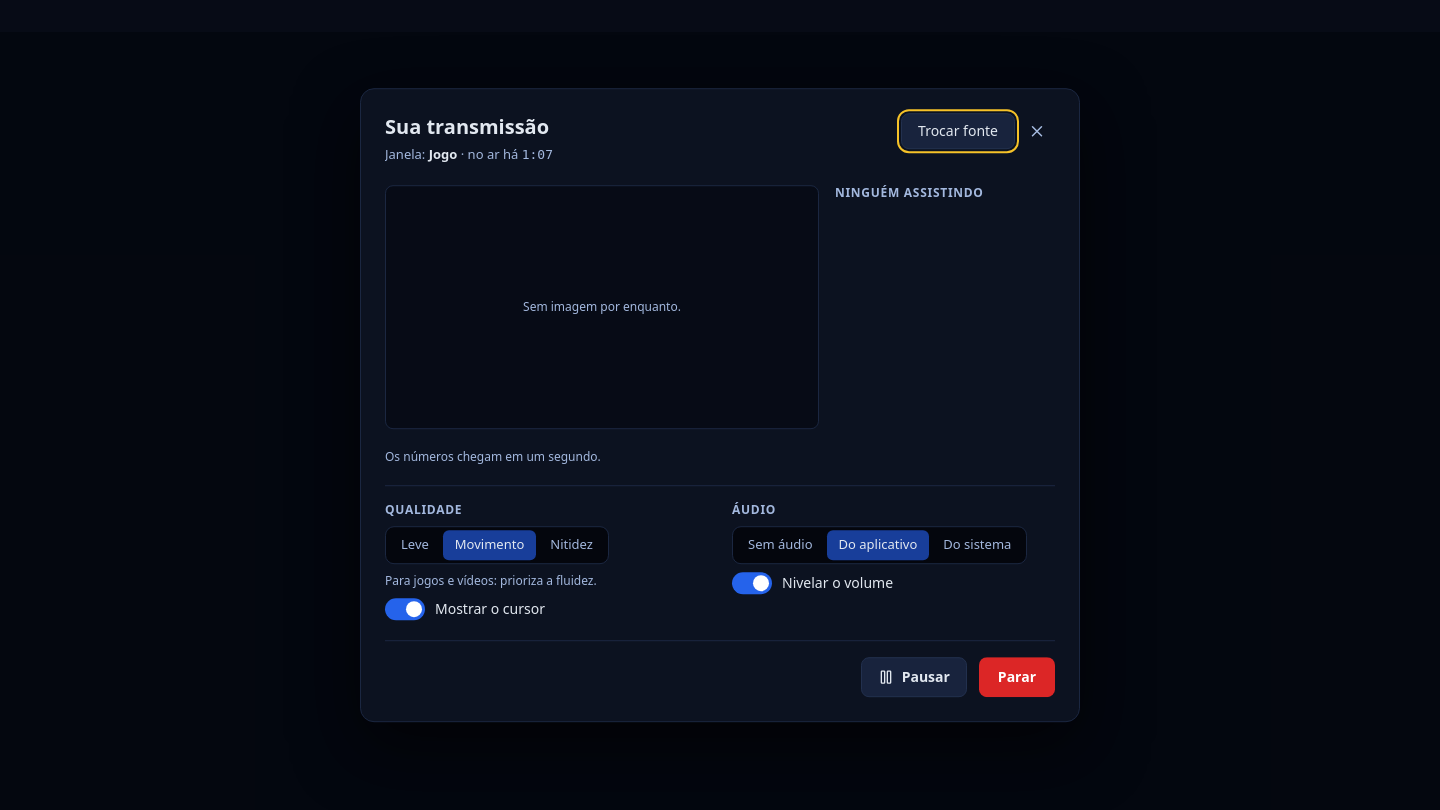
Test: SharePanel › um ajuste que falha avisa, e a transmissão segue
The image size is (1440, 810).
Click the radio button labelled "Do sistema". click: click(977, 544)
box: [943, 536, 1011, 554]
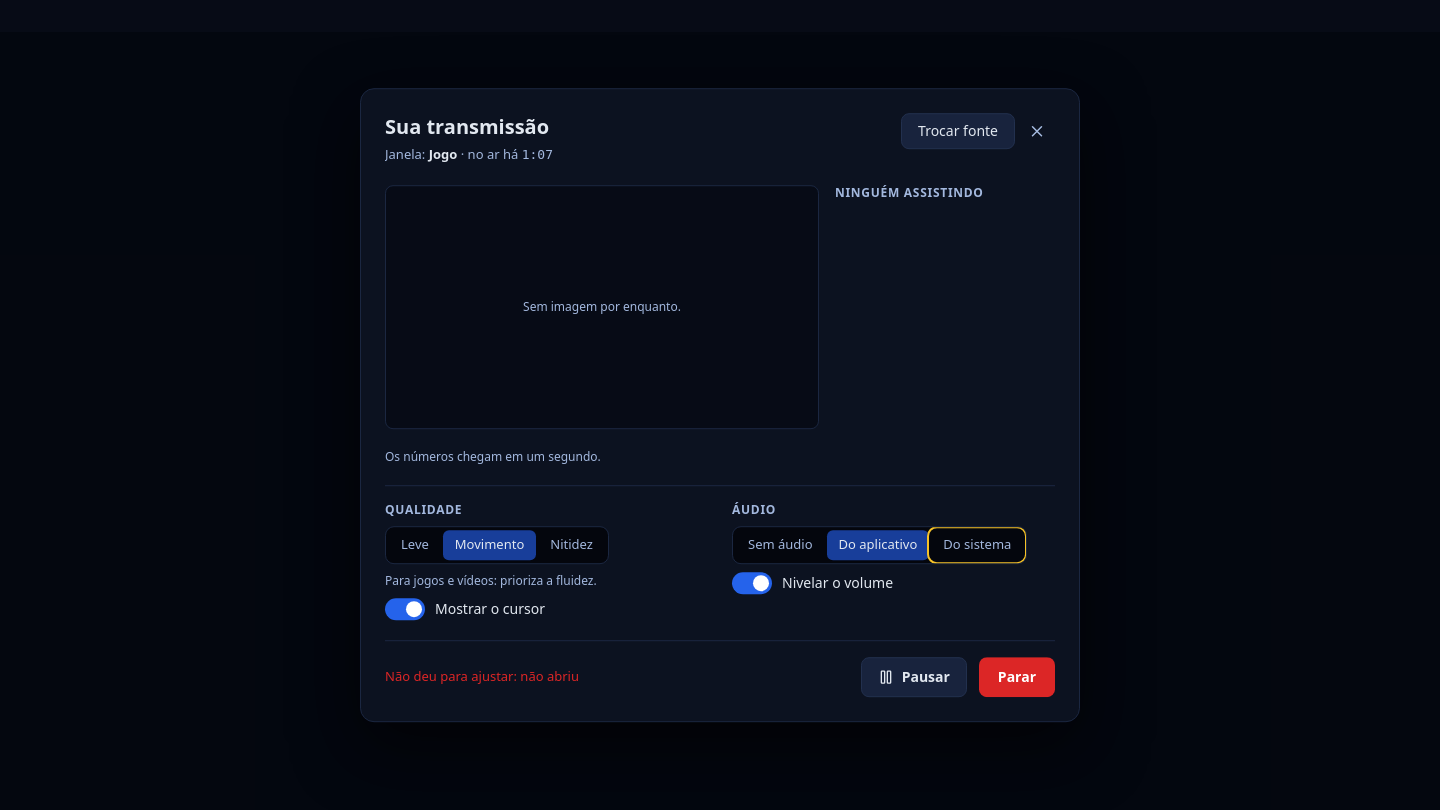
Check: the message shows "não abriu", box [385, 668, 579, 686]
